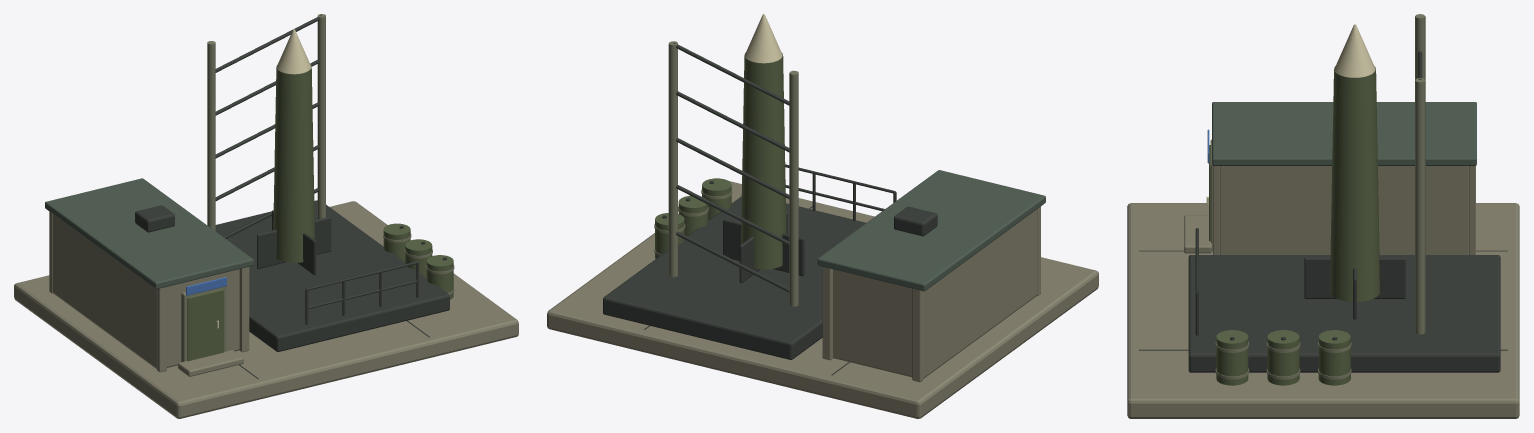
Rendered from superweapon.glb.
3 views of the same model, side by side, from view 1: azimuth 30°, elevation 25°; view 2: azimuth 150°, elevation 25°; view 3: azimuth 270°, elevation 25° (orthographic). The views are drawn at different scales.
Parts seen in each view (by area): view 1: Concrete, Steel, Armor, RoofMetal, EdgeSteel, Markings; view 2: Concrete, Steel, RoofMetal, Armor, EdgeSteel, Markings; view 3: Concrete, Steel, Armor, RoofMetal, EdgeSteel, Markings.
Part boxes in pixels (x1,y1,x2,y2): Concrete: (14,201,518,418); Steel: (135,15,449,379); Armor: (187,64,453,361); RoofMetal: (45,178,253,289); EdgeSteel: (181,14,454,362); Markings: (216,29,311,328); Concrete: (547,181,1098,418); Steel: (603,42,937,375); RoofMetal: (817,170,1045,291); Armor: (655,52,786,269); EdgeSteel: (654,41,798,306); Markings: (745,14,782,63); Concrete: (1127,166,1519,418); Steel: (1139,51,1507,372); Armor: (1209,66,1379,385); RoofMetal: (1212,102,1476,165); EdgeSteel: (1210,14,1425,379); Markings: (1206,24,1375,205).
Size of the model in its own units: 6.7 by 5.04 by 5.6.
